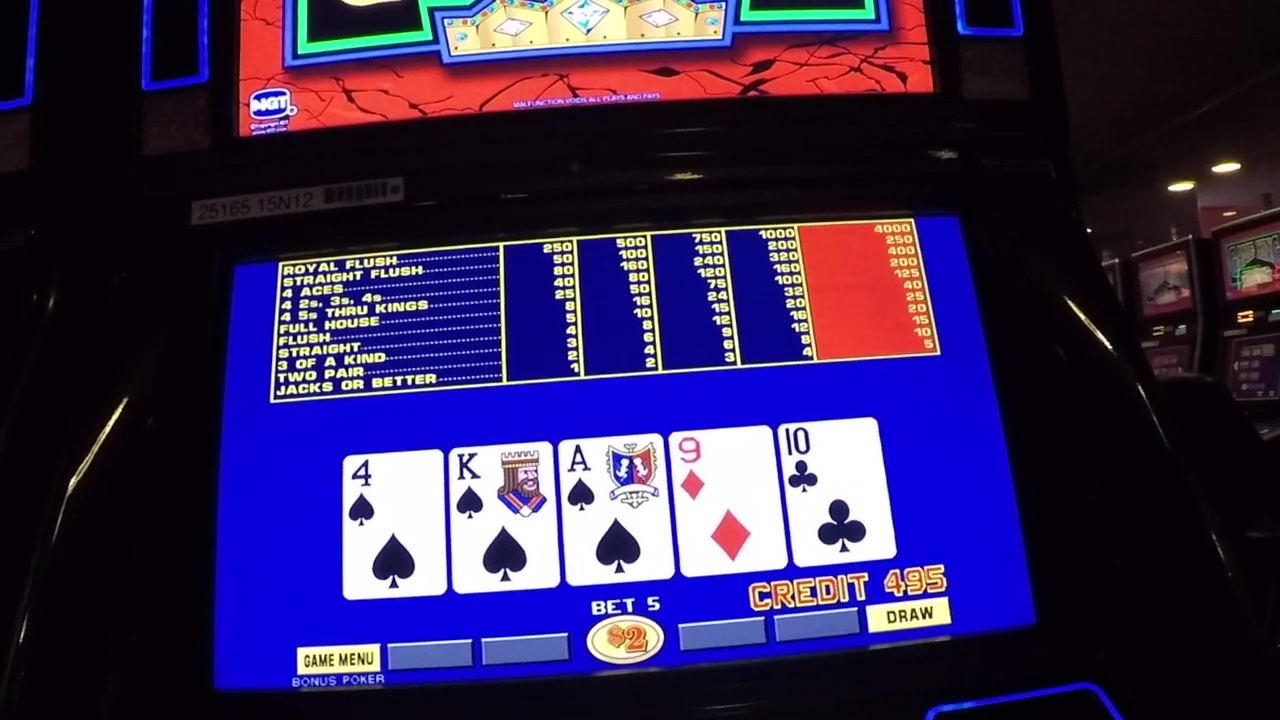CT: (786, 424, 877, 493)
D9: (675, 434, 770, 507)
S4: (346, 456, 441, 525)
SA: (563, 440, 662, 512)
SK: (455, 454, 550, 518)
